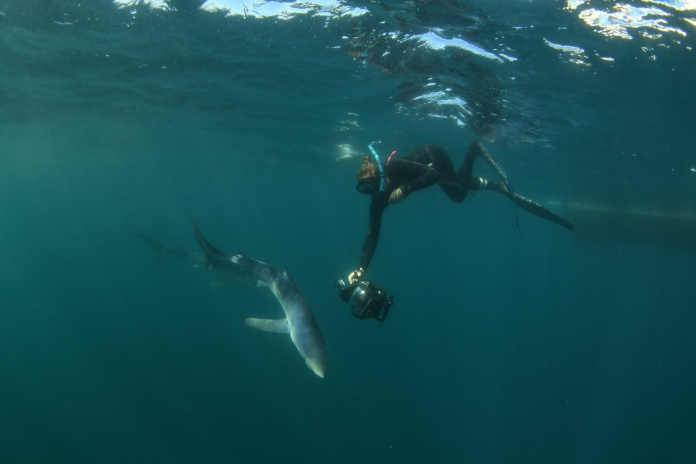Azul: (159, 199, 330, 389)
